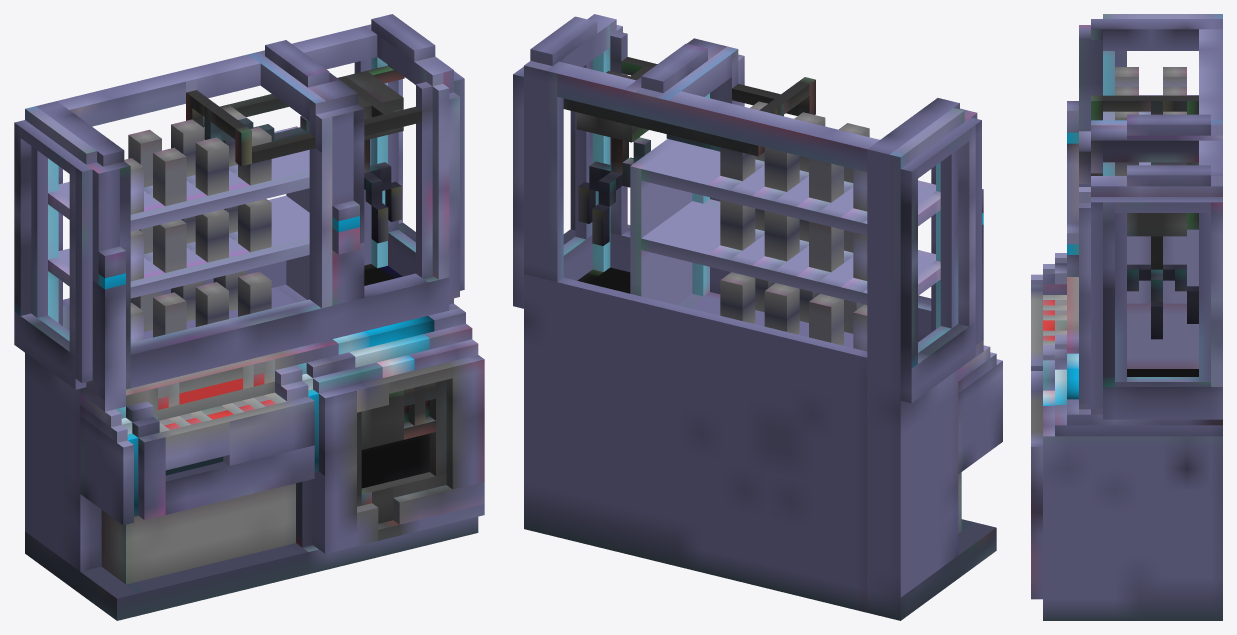
File: Machine_Dispenser_B_00.fbx
3 renders of one model, left to right at view 1: azimuth 30°, elevation 25°; view 2: azimuth 150°, elevation 25°; view 3: azimuth 270°, elevation 25°, orthographic. The views are drawn at different scales.
Visible parts, largest first — view 1: Machine_Dispenser_B_00; view 2: Machine_Dispenser_B_00; view 3: Machine_Dispenser_B_00.
Part boxes in pixels (box(x1,y1,x2,y2)): Machine_Dispenser_B_00: box(14, 14, 484, 620); Machine_Dispenser_B_00: box(513, 14, 1002, 620); Machine_Dispenser_B_00: box(1031, 14, 1222, 620).
Bounding box in the file's own units: 180 × 205 × 80.
